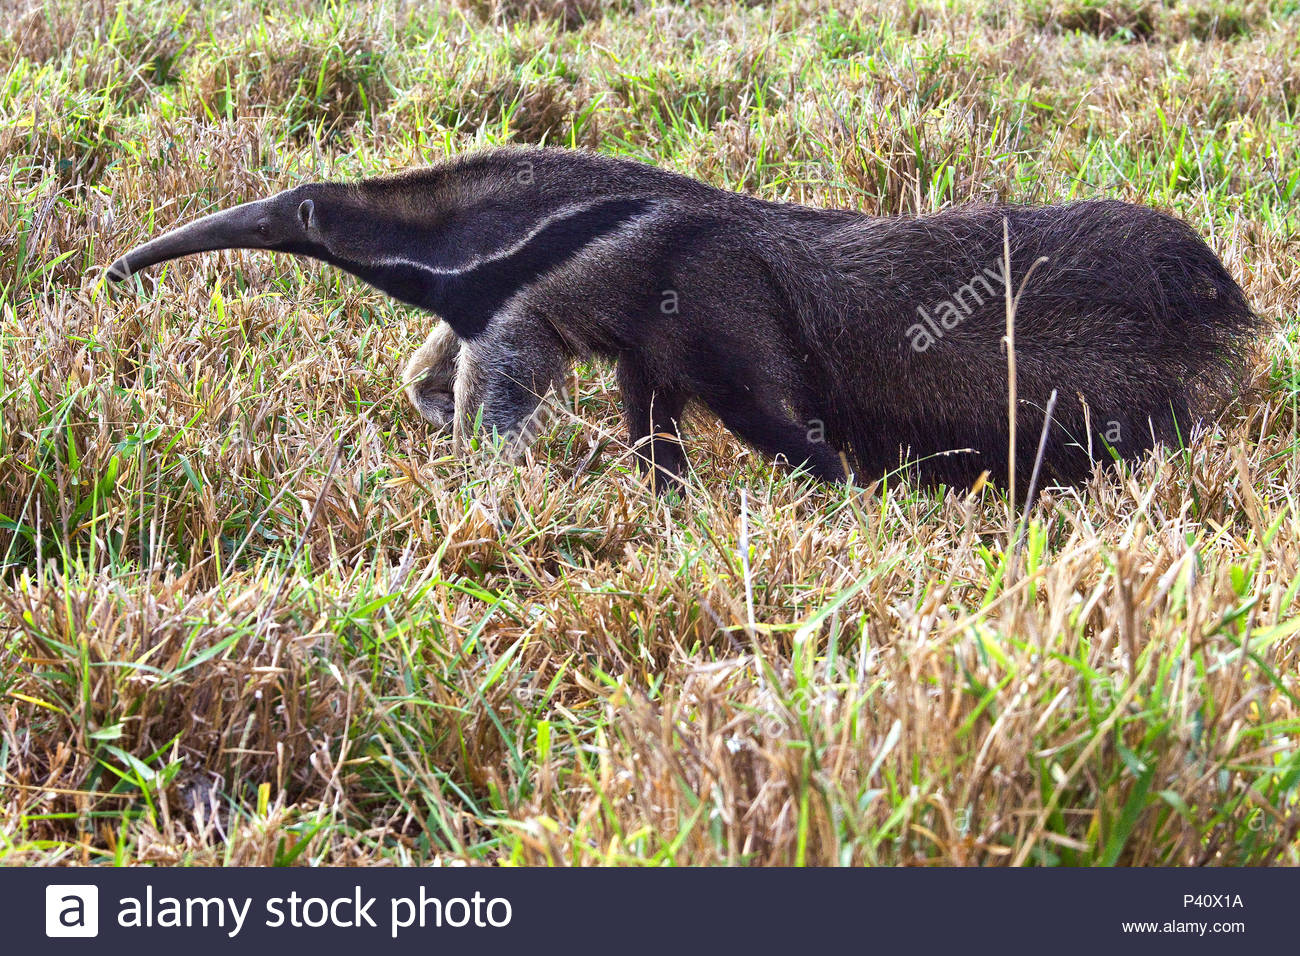TamanduaBandeira: (97, 137, 1258, 486)
